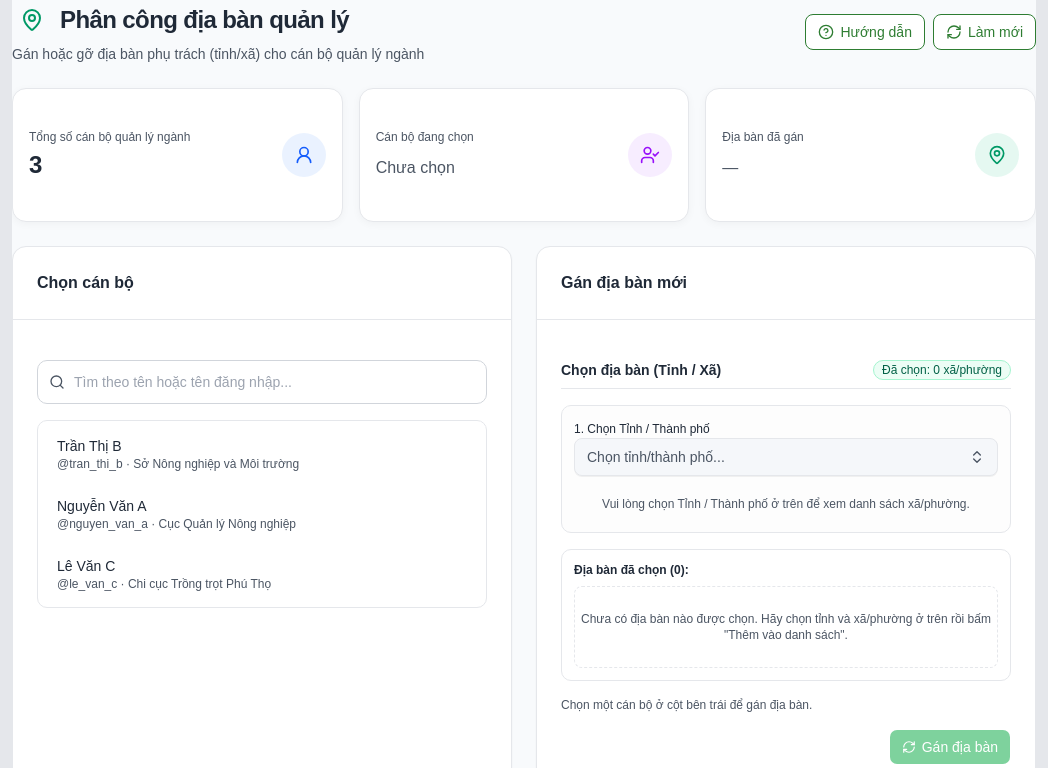
Scenario: AreaAssignmentPage › TC-A: hiển thị empty-state đúng chuỗi khi cán bộ đầu tiên chưa được gán địa bàn
Click the text "Trần Thị B": click(89, 446) [57,436,122,456]
(page scrolled)
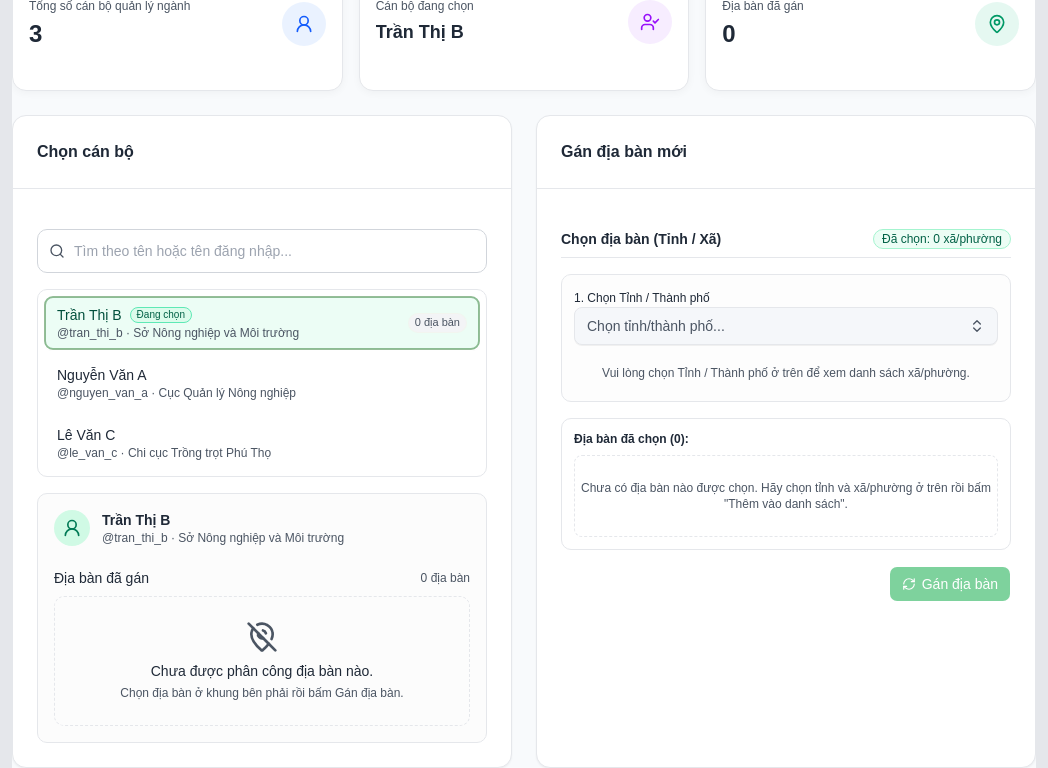
Now the text "Chưa được phân công địa bàn nào." is shown, box [151,661,373,681]
Now the text "Chọn địa bàn ở khung bên phải rồi bấm Gán địa bàn." is shown, box [120,685,404,701]
